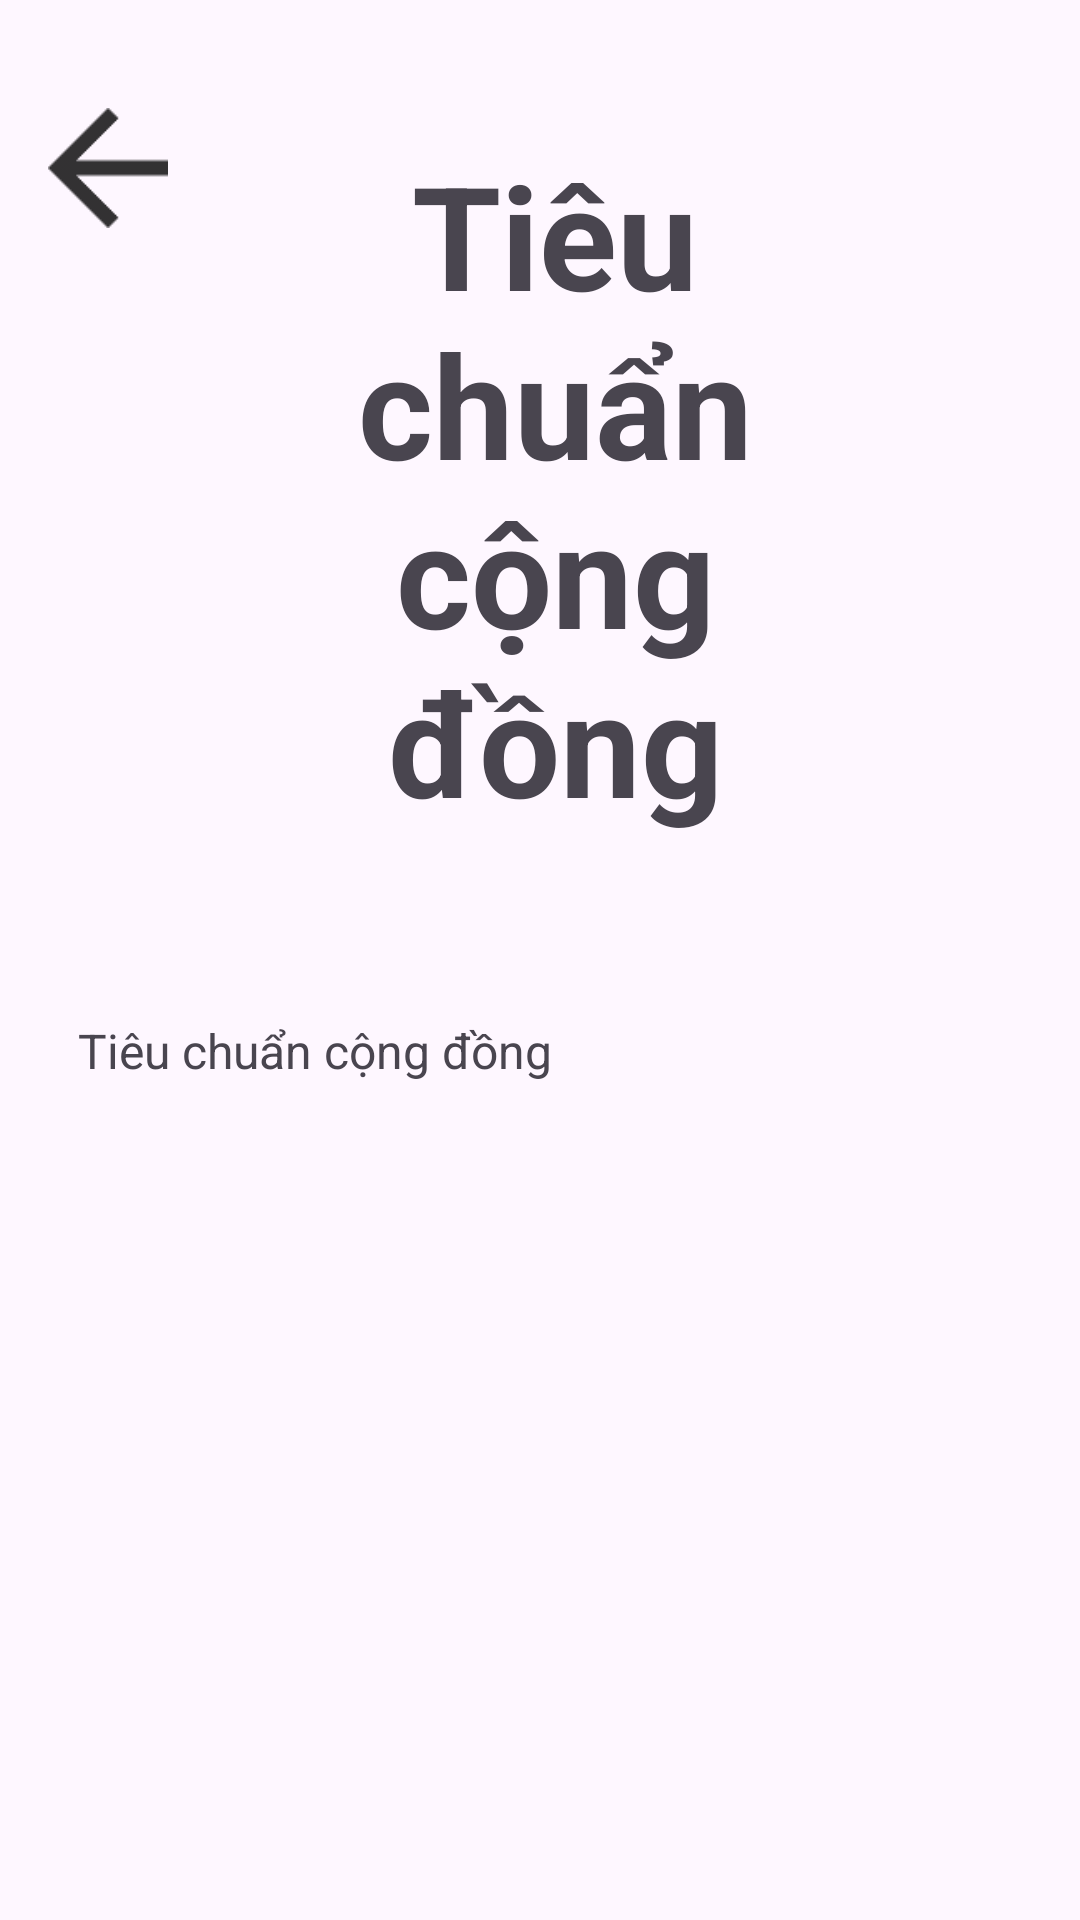

Named icons in this screenshot (1080px×1920px) and their centers, point (x, y):
arrowback: point (108, 168)
